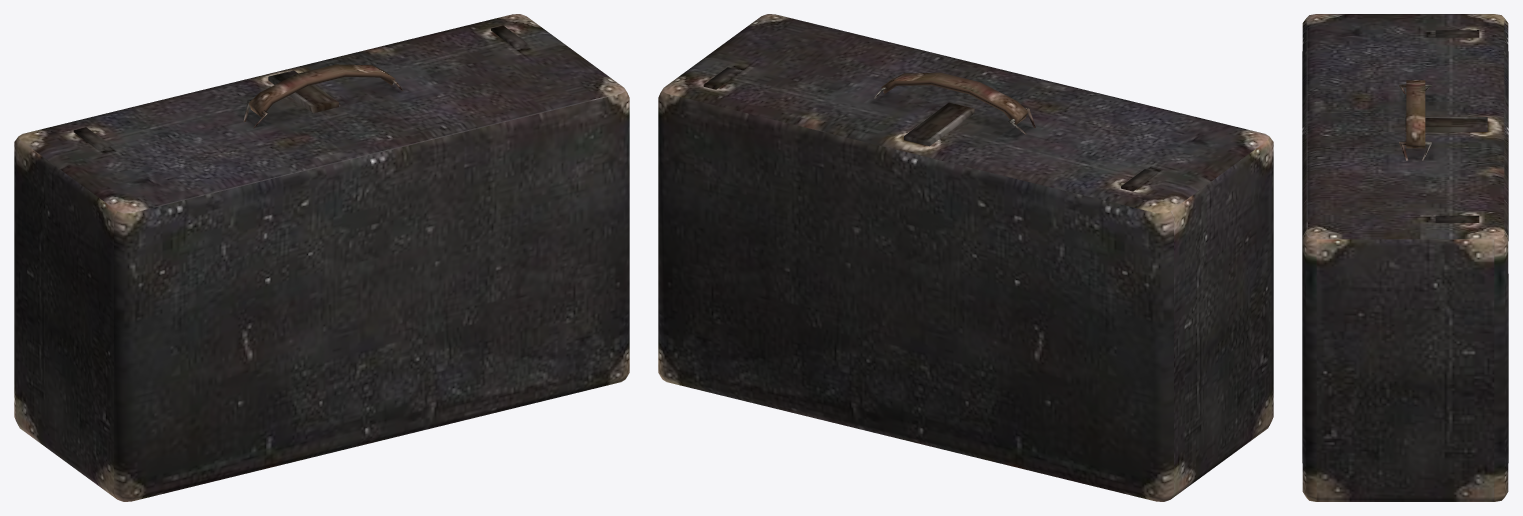
Rendered from suitcase001a.glb.
The picture shows the model from 3 angles, left to right: view 1: azimuth 30°, elevation 25°; view 2: azimuth 150°, elevation 25°; view 3: azimuth 270°, elevation 25°; orthographic projection. The views are drawn at different scales.
Visible parts, largest first — view 1: 0_Furniture_DetailProps001a; view 2: 0_Furniture_DetailProps001a; view 3: 0_Furniture_DetailProps001a.
Boxes of the visible parts, x1,y1,x2,y2 form: 0_Furniture_DetailProps001a: (14, 14, 629, 501); 0_Furniture_DetailProps001a: (658, 14, 1273, 501); 0_Furniture_DetailProps001a: (1302, 14, 1508, 501).
Size of the model in its own units: 0.8073 by 0.4909 by 0.3088.
1 material, 1 textured.
